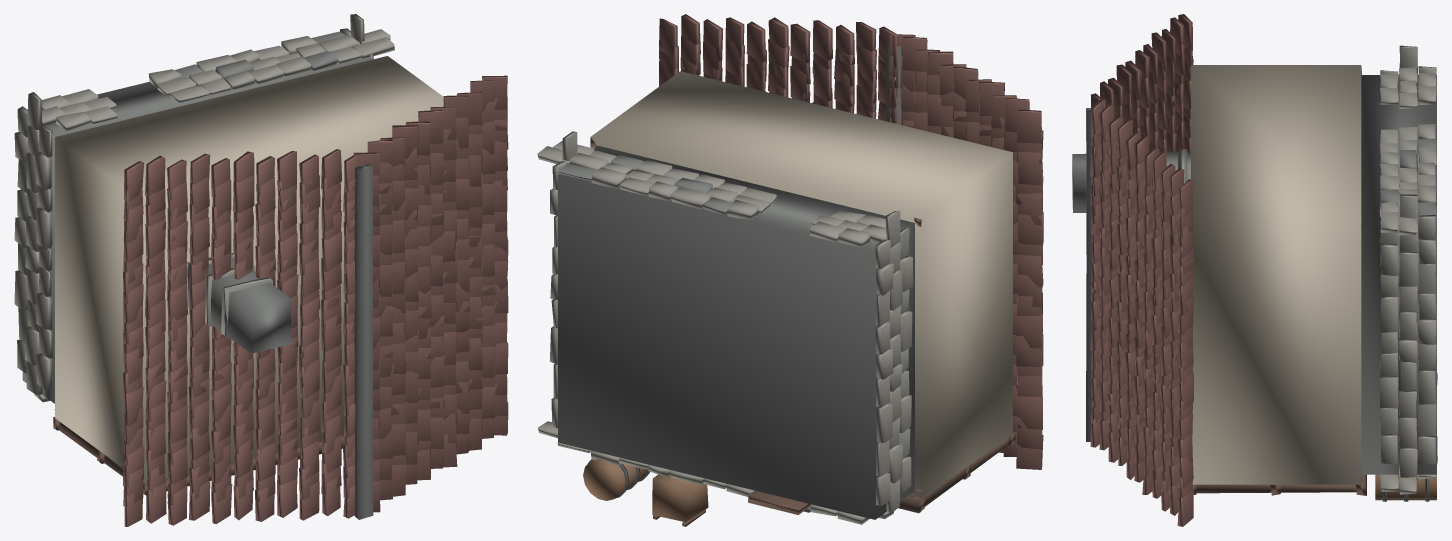
The model's file is house_medium_hd.glb.
3 renders of one model, left to right at view 1: azimuth 30°, elevation 25°; view 2: azimuth 150°, elevation 25°; view 3: azimuth 270°, elevation 25°, orthographic. The views are drawn at different scales.
Size of the model in its own units: 7.52 by 7.02 by 6.54.
